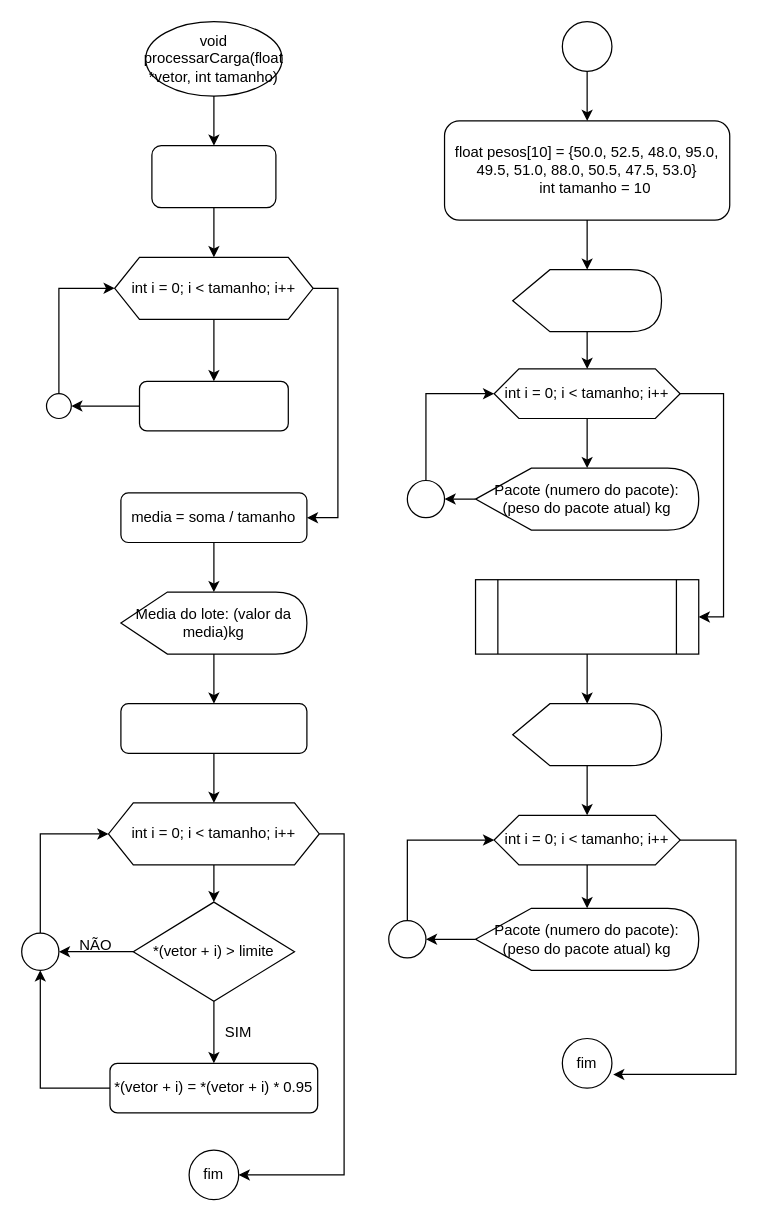
The diagram is 768 pixels wide and 1221 high, and some of its shapes have lost their labels. Here are the shapes that lost their labels. From the top down, the centre of each, then its label:
pixel 586 45: main
pixel 213 176: float soma = 0.0 float media = 0.0
pixel 587 300: Pesos antes da calibracao
pixel 213 405: soma += *(vetor + i)
pixel 586 616: processarCarga(pesos, tamanho)
pixel 213 727: float limite = media * 1.10
pixel 587 734: Pesos depois da calibracao
